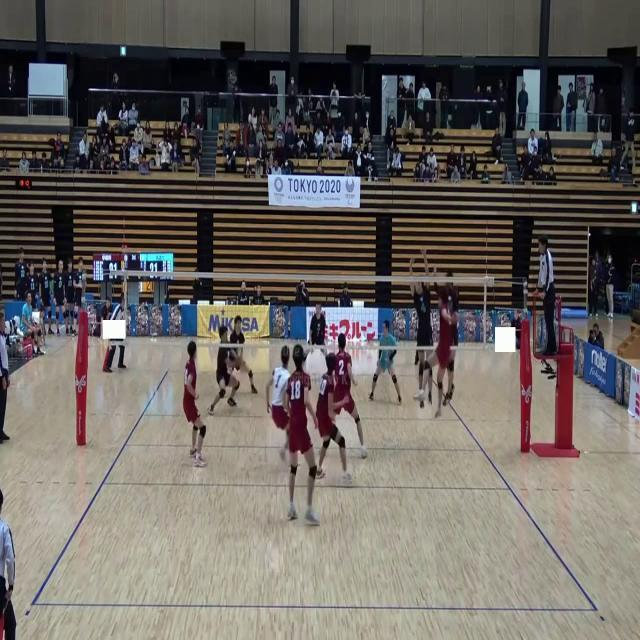volleyball: (244, 341, 263, 360)
